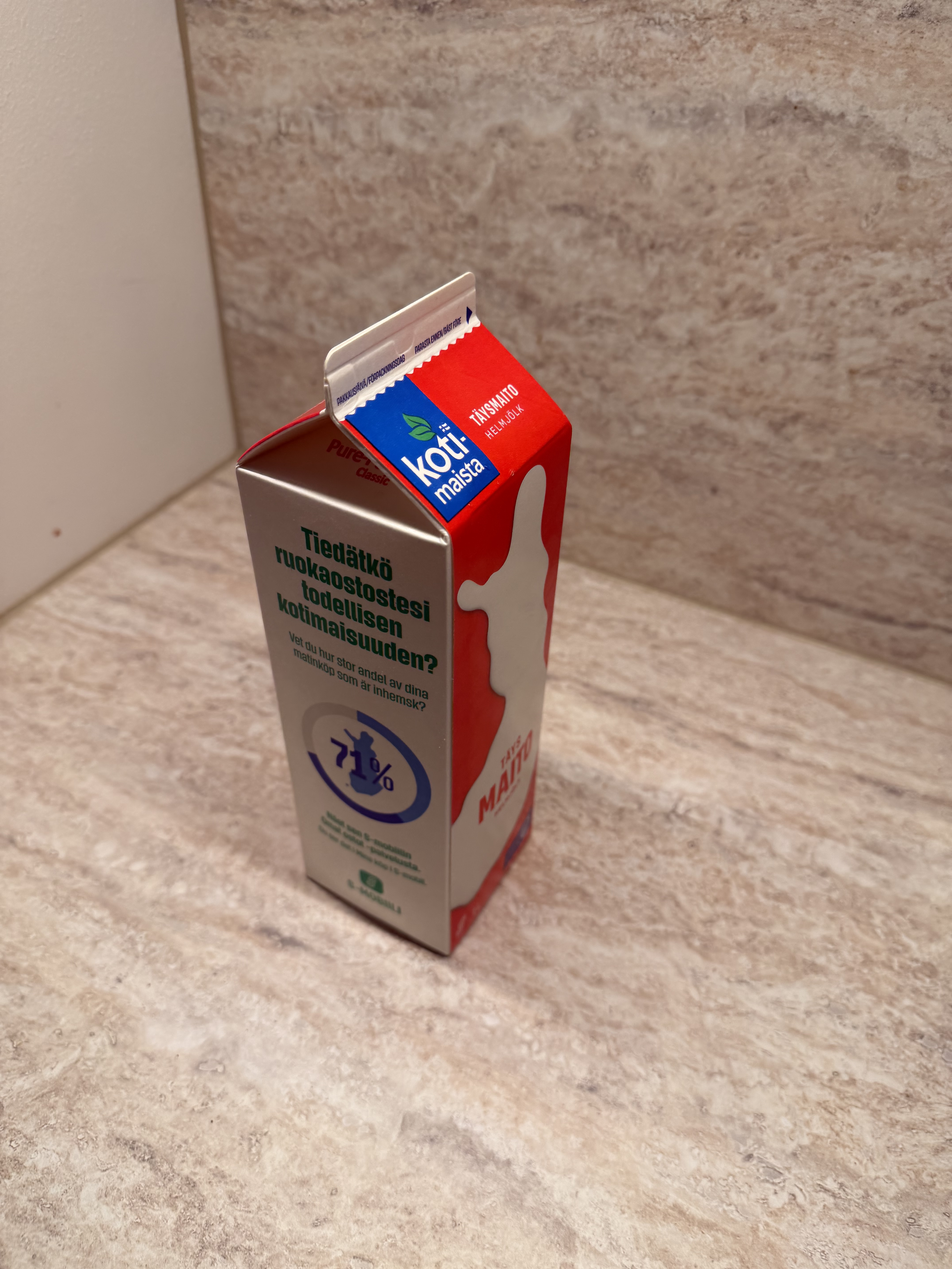Dryckeskartong: (199, 277, 589, 955)
